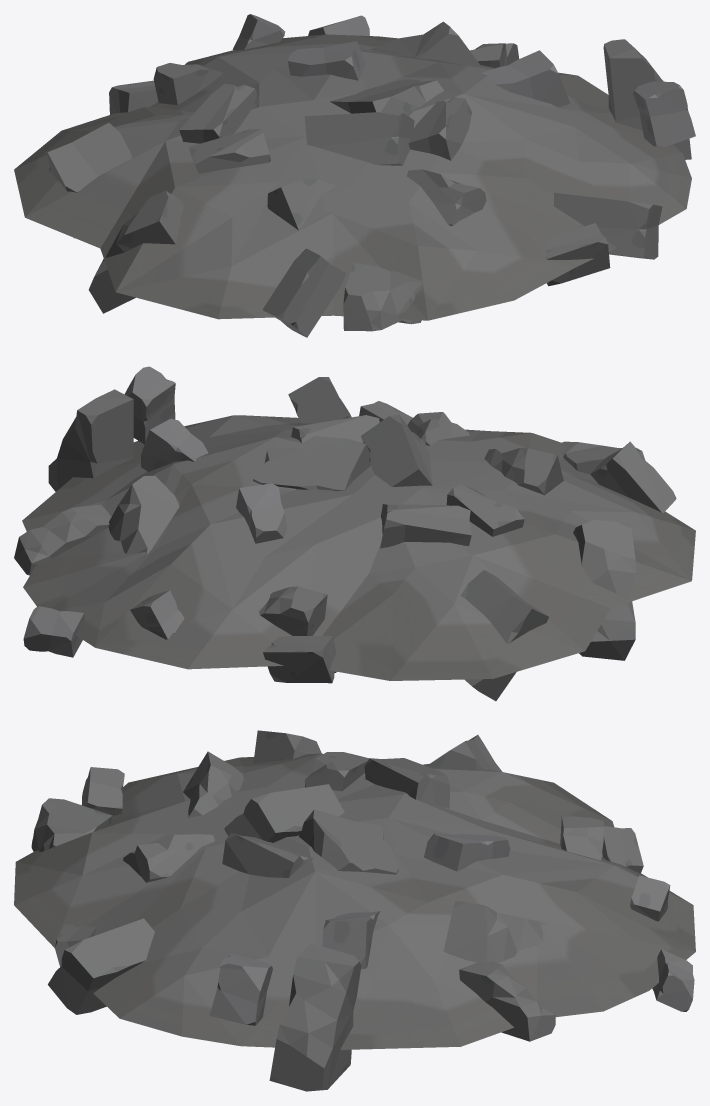
The model's file is SM_Bld_Wall_Rubble_Flat_02.fbx.
3 renders of one model, top to bottom at view 1: azimuth 30°, elevation 25°; view 2: azimuth 150°, elevation 25°; view 3: azimuth 270°, elevation 25°, orthographic. The views are drawn at different scales.
Parts seen in each view (by area): view 1: SM_Bld_Wall_Rubble_Flat_02; view 2: SM_Bld_Wall_Rubble_Flat_02; view 3: SM_Bld_Wall_Rubble_Flat_02.
Boxes of the visible parts, left/top/right/bottom form: SM_Bld_Wall_Rubble_Flat_02: left=14, top=14, right=695, bottom=337; SM_Bld_Wall_Rubble_Flat_02: left=14, top=366, right=695, bottom=701; SM_Bld_Wall_Rubble_Flat_02: left=14, top=730, right=695, bottom=1091.
Bounding box in the file's own units: 1016 × 254 × 946.
1 material, 1 textured.
